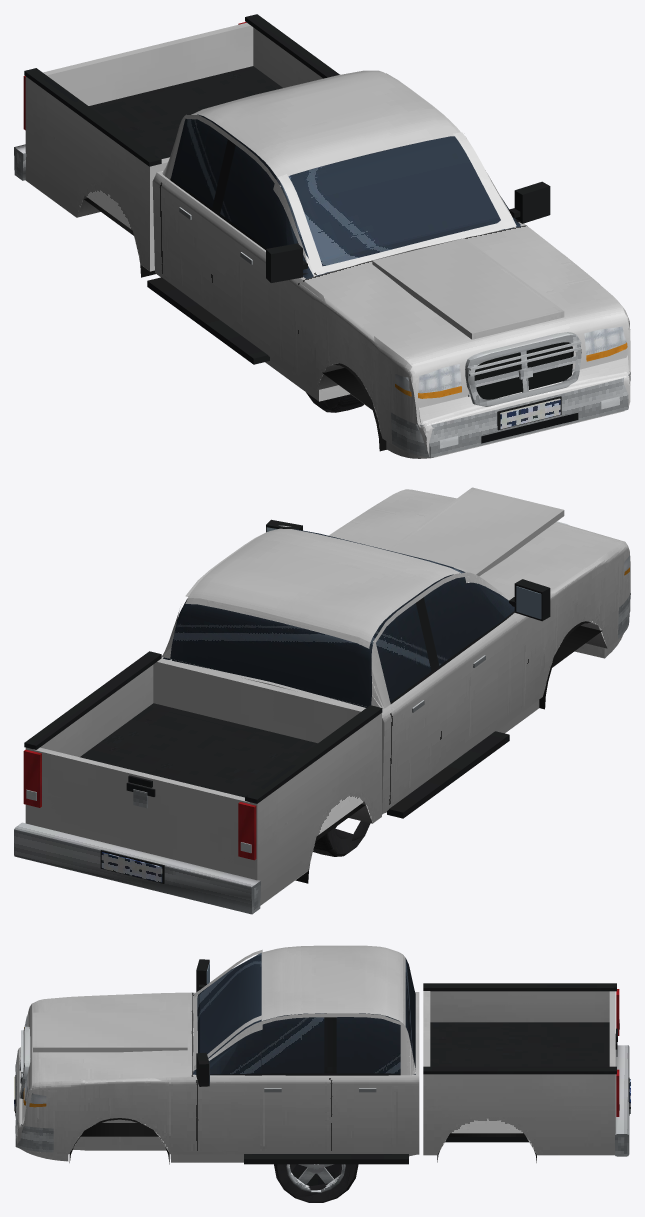
File: rampart16.glb
The picture shows the model from 3 angles, top to bottom: view 1: azimuth 30°, elevation 25°; view 2: azimuth 150°, elevation 25°; view 3: azimuth 270°, elevation 25°; orthographic projection. The views are drawn at different scales.
Visible parts, largest first — view 1: Paint, Body, Body_far, Paint_far; view 2: Paint, Body, Paint_far, Body_far, Wheel; view 3: Paint, Body, Body_far, Paint_far, Wheel, Wheel_far.
Boxes of the visible parts, bbox=[...] form: Paint: bbox=[25, 22, 630, 458]; Body: bbox=[14, 14, 630, 457]; Body_far: bbox=[14, 18, 581, 456]; Paint_far: bbox=[25, 28, 629, 457]; Paint: bbox=[25, 487, 630, 905]; Body: bbox=[14, 519, 630, 914]; Paint_far: bbox=[25, 512, 607, 904]; Body_far: bbox=[23, 525, 602, 913]; Wheel: bbox=[313, 821, 370, 856]; Paint: bbox=[16, 945, 615, 1162]; Body: bbox=[14, 953, 629, 1164]; Body_far: bbox=[14, 963, 630, 1164]; Paint_far: bbox=[22, 991, 615, 1162]; Wheel: bbox=[274, 1164, 358, 1202]; Wheel_far: bbox=[283, 1164, 351, 1197].
Bounding box in the file's own units: 2.42 × 2.38 × 5.99.
Materials: 3 (3 with a texture image).
